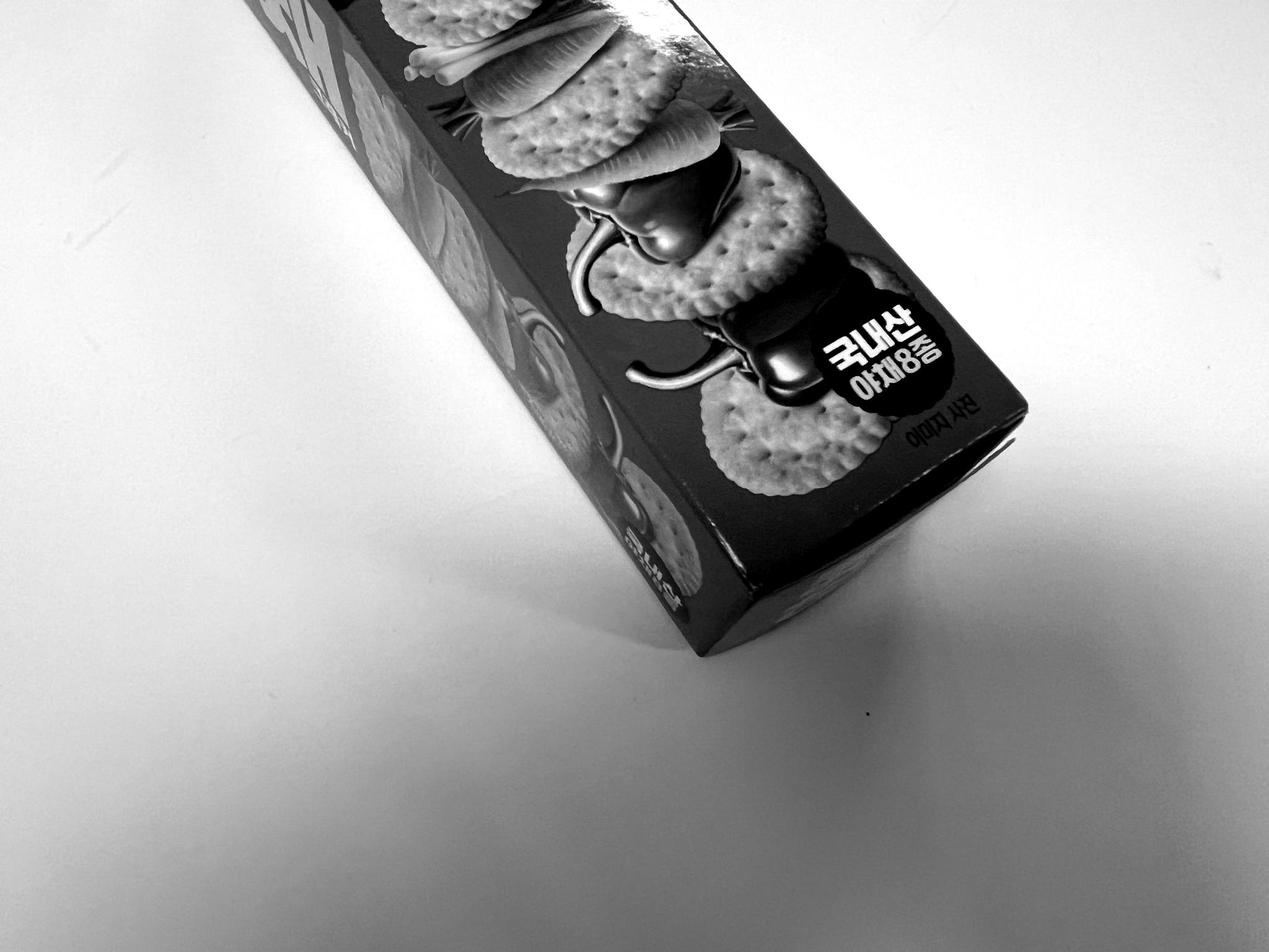cracker_vege: (245, 0, 1028, 666)
